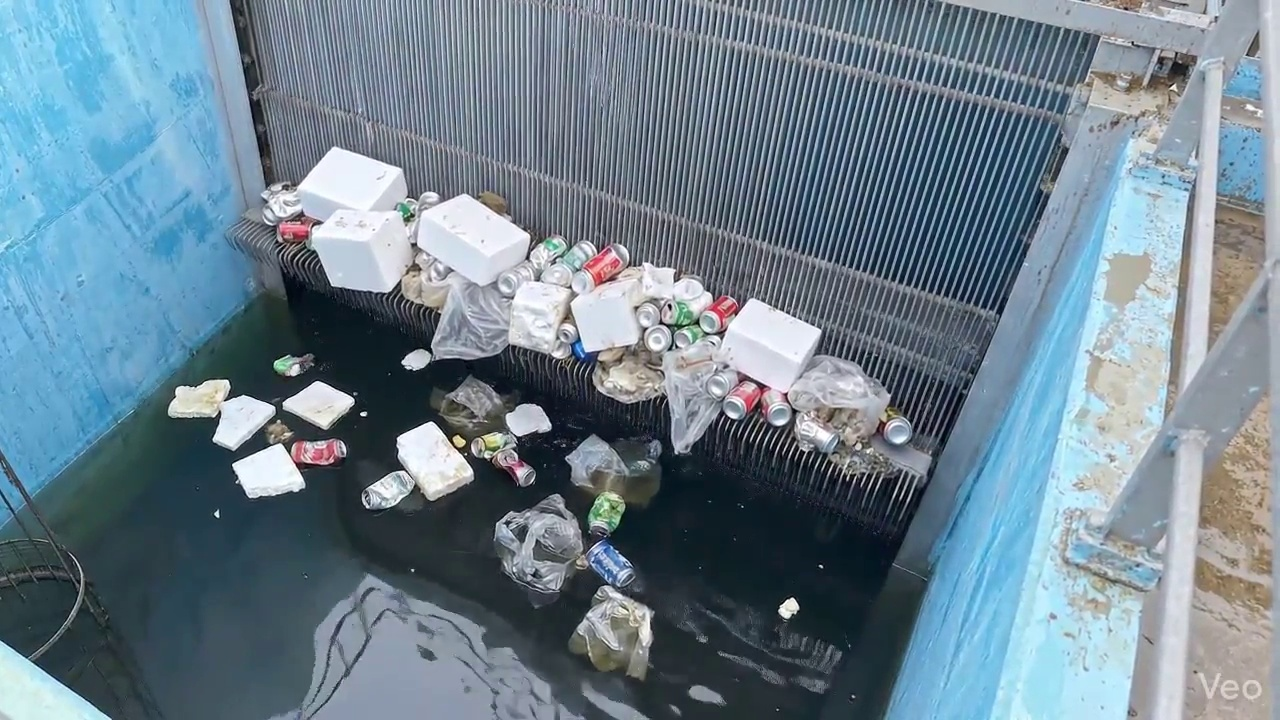debris: (417, 194, 530, 285), (494, 494, 582, 606), (717, 299, 821, 391), (311, 209, 412, 292), (788, 356, 888, 437), (298, 148, 406, 221), (569, 585, 652, 679), (663, 344, 727, 453), (565, 435, 660, 507), (431, 275, 511, 359), (397, 422, 473, 500), (571, 283, 641, 351), (508, 282, 571, 352), (439, 376, 506, 434), (232, 445, 304, 497), (592, 351, 663, 403), (282, 381, 354, 429), (212, 396, 275, 450), (571, 243, 629, 294), (539, 241, 596, 287), (168, 379, 230, 417), (587, 539, 635, 588), (362, 470, 415, 509), (794, 412, 839, 453), (660, 292, 712, 327), (261, 182, 302, 225), (491, 447, 535, 487), (587, 491, 625, 536), (496, 260, 540, 298), (528, 235, 569, 273), (722, 381, 762, 419), (505, 403, 551, 436), (698, 296, 738, 333), (290, 439, 346, 465), (878, 407, 913, 445), (640, 263, 675, 300), (470, 432, 515, 459), (761, 388, 792, 426), (276, 215, 316, 244), (273, 353, 313, 376), (672, 275, 705, 300), (477, 191, 508, 214), (264, 421, 293, 443), (401, 350, 431, 370), (570, 340, 596, 362), (778, 597, 799, 619), (451, 434, 466, 449), (213, 509, 219, 518), (359, 411, 367, 416)
